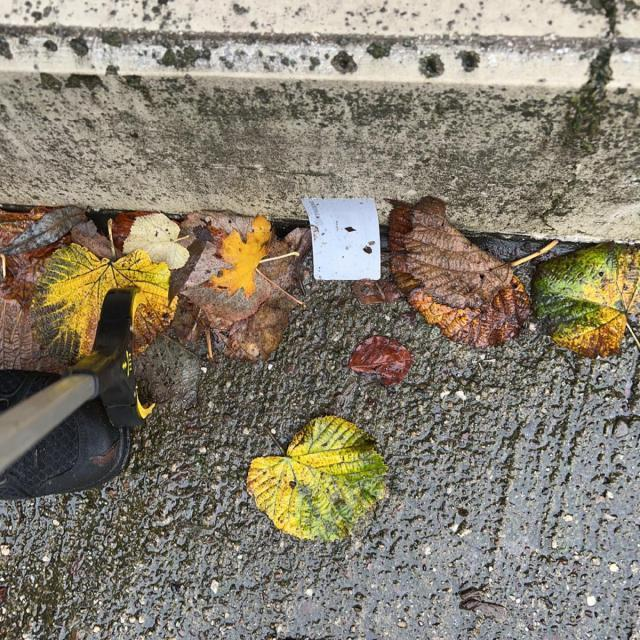Paper: (299, 194, 382, 282)
